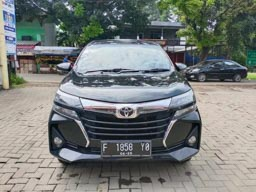plat: (98, 139, 155, 150)
